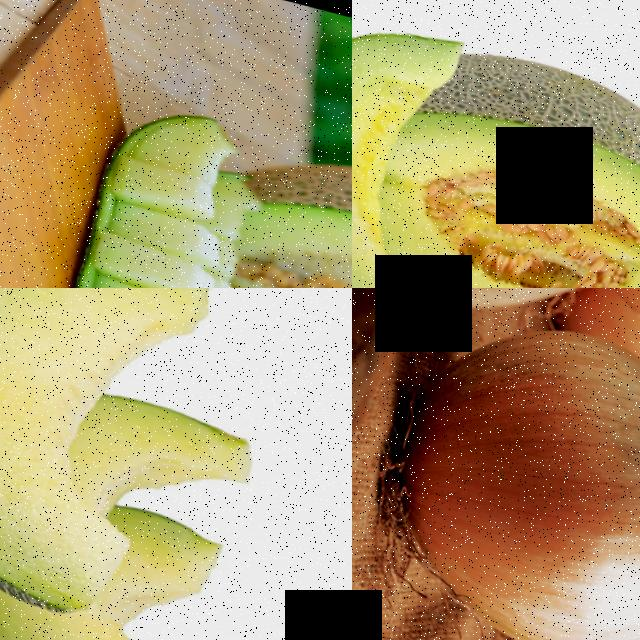melon: (381, 20, 640, 288), (0, 288, 179, 618), (352, 0, 460, 288), (213, 124, 352, 288), (0, 580, 179, 640)
onion: (371, 295, 640, 640)
